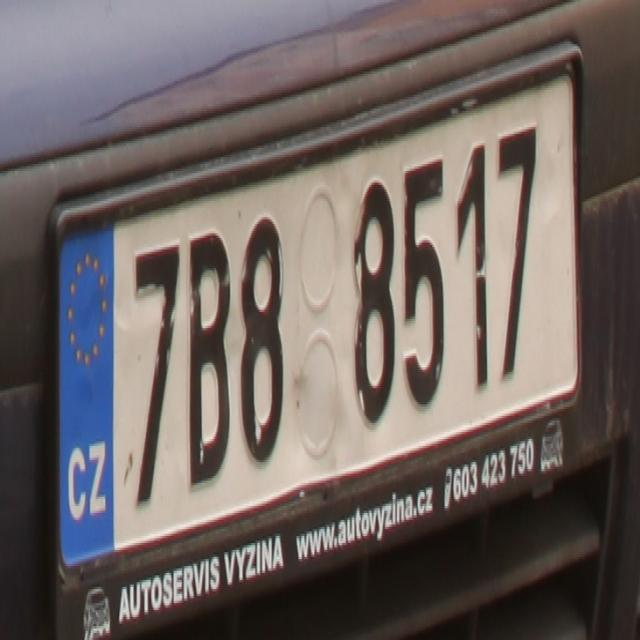1: (454, 134, 491, 393)
5: (401, 150, 444, 418)
7: (128, 234, 178, 508), (498, 127, 538, 388)
8: (239, 213, 285, 467), (352, 171, 394, 434)
B: (186, 224, 234, 497)
